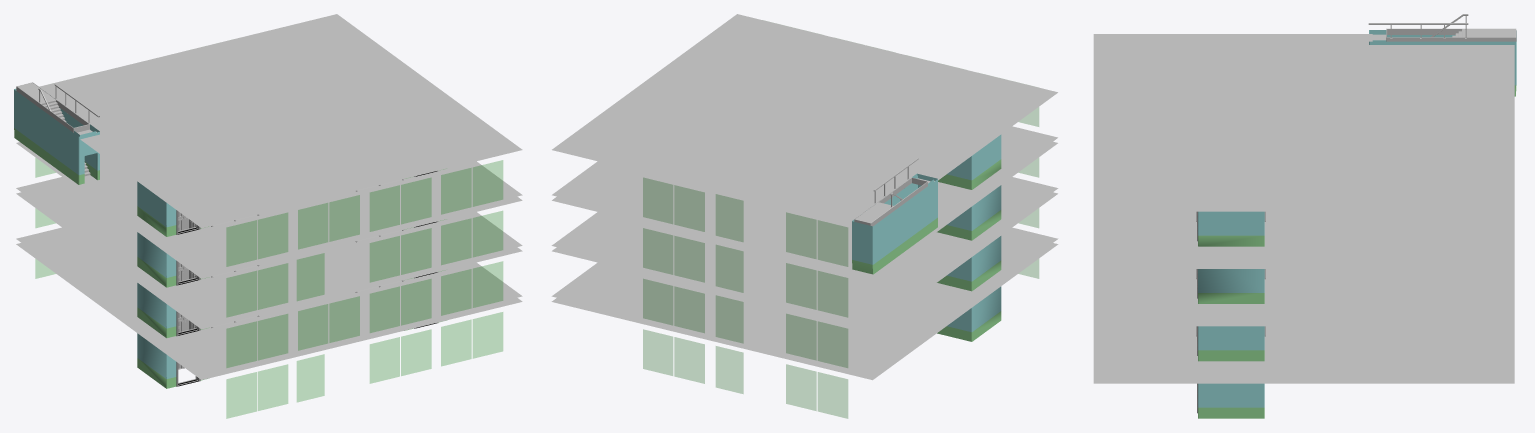
File: SM_Building11_V3_Interior2.fbx
3 views of the same model, side by side, from view 1: azimuth 30°, elevation 25°; view 2: azimuth 150°, elevation 25°; view 3: azimuth 270°, elevation 25° (orthographic). The views are drawn at different scales.
Visible parts, largest first — view 1: SM_Building11_V3_Interior2; view 2: SM_Building11_V3_Interior2; view 3: SM_Building11_V3_Interior2.
Boxes of the visible parts, x1,y1,x2,y2 form: SM_Building11_V3_Interior2: [14, 14, 522, 418]; SM_Building11_V3_Interior2: [551, 14, 1058, 418]; SM_Building11_V3_Interior2: [1093, 14, 1516, 418].
Bounding box in the file's own units: 2701 × 1725 × 2773.
